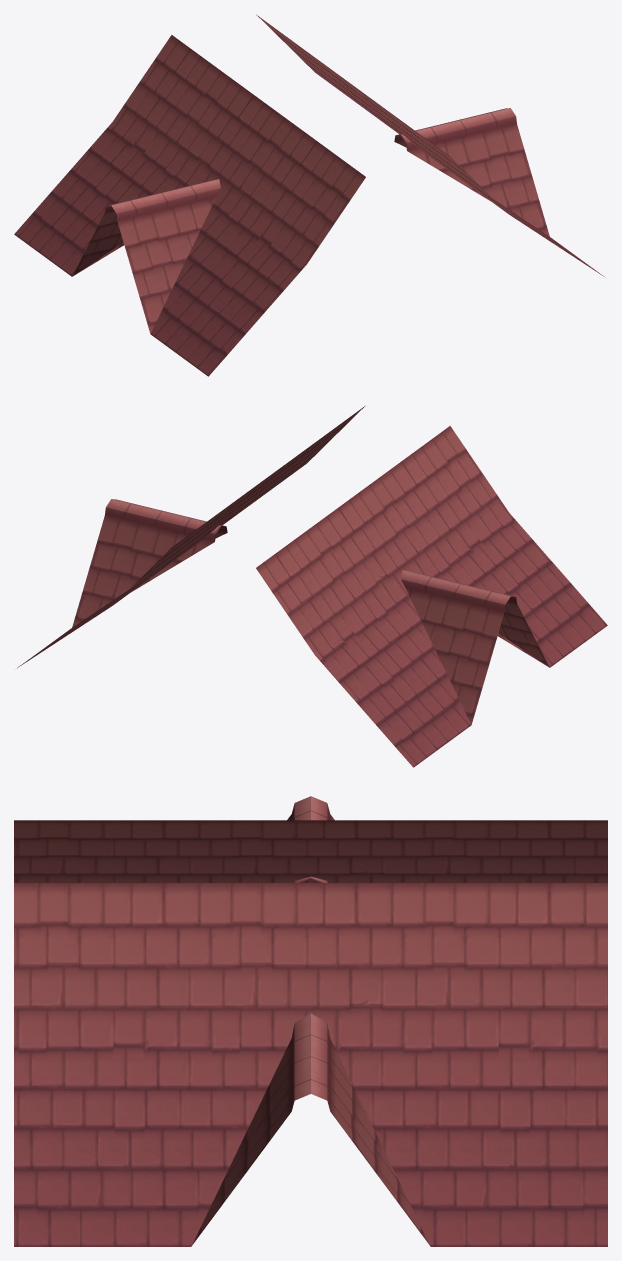
File: scene_luoliante_zhd02.FBX
The picture shows the model from 3 angles, top to bottom: view 1: azimuth 30°, elevation 25°; view 2: azimuth 150°, elevation 25°; view 3: azimuth 270°, elevation 25°; orthographic projection. The views are drawn at different scales.
Visible parts, largest first — view 1: scene_luoliante_zhd02; view 2: scene_luoliante_zhd02; view 3: scene_luoliante_zhd02.
Part boxes in pixels (x1,y1,x2,y2): scene_luoliante_zhd02: (14, 14, 604, 376); scene_luoliante_zhd02: (17, 405, 607, 767); scene_luoliante_zhd02: (14, 796, 607, 1246).
Size of the model in its own units: 479 by 185 by 404.
